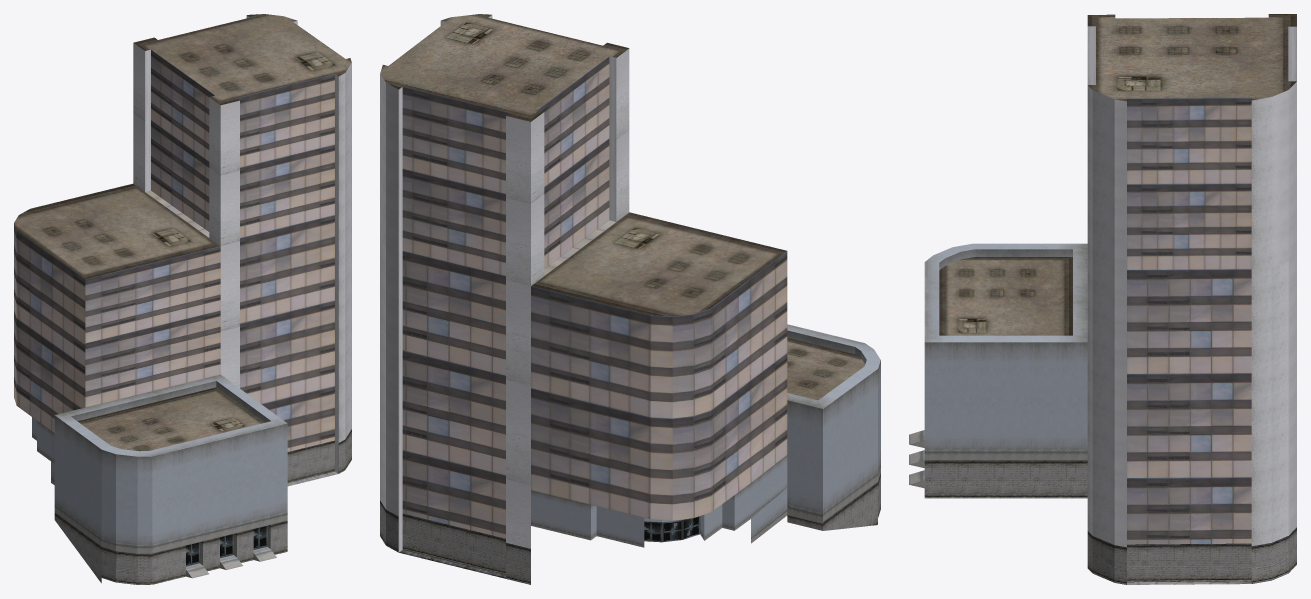
The model's file is tall2.obj.
The picture shows the model from 3 angles, left to right: view 1: azimuth 30°, elevation 25°; view 2: azimuth 150°, elevation 25°; view 3: azimuth 270°, elevation 25°; orthographic projection. The views are drawn at different scales.
Parts seen in each view (by area): view 1: tall2; view 2: tall2; view 3: tall2.
Part boxes in pixels (x1=…): tall2: x1=14, y1=14, x2=351, y2=584; tall2: x1=380, y1=14, x2=880, y2=584; tall2: x1=909, y1=14, x2=1296, y2=584.
Size of the model in its own units: 66.82 by 82.53 by 59.12.
